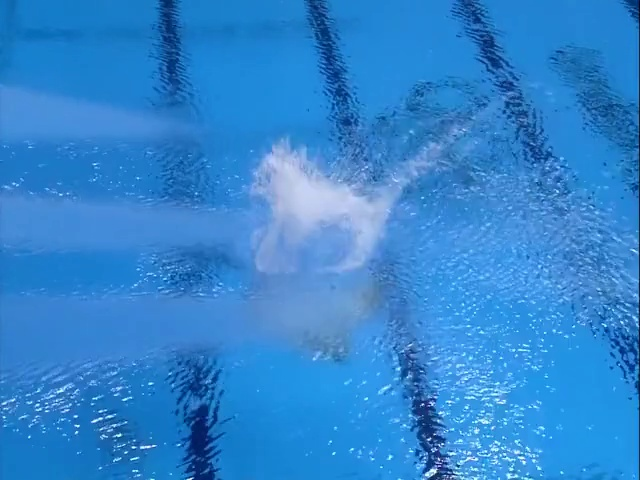splash: (254, 141, 380, 273)
